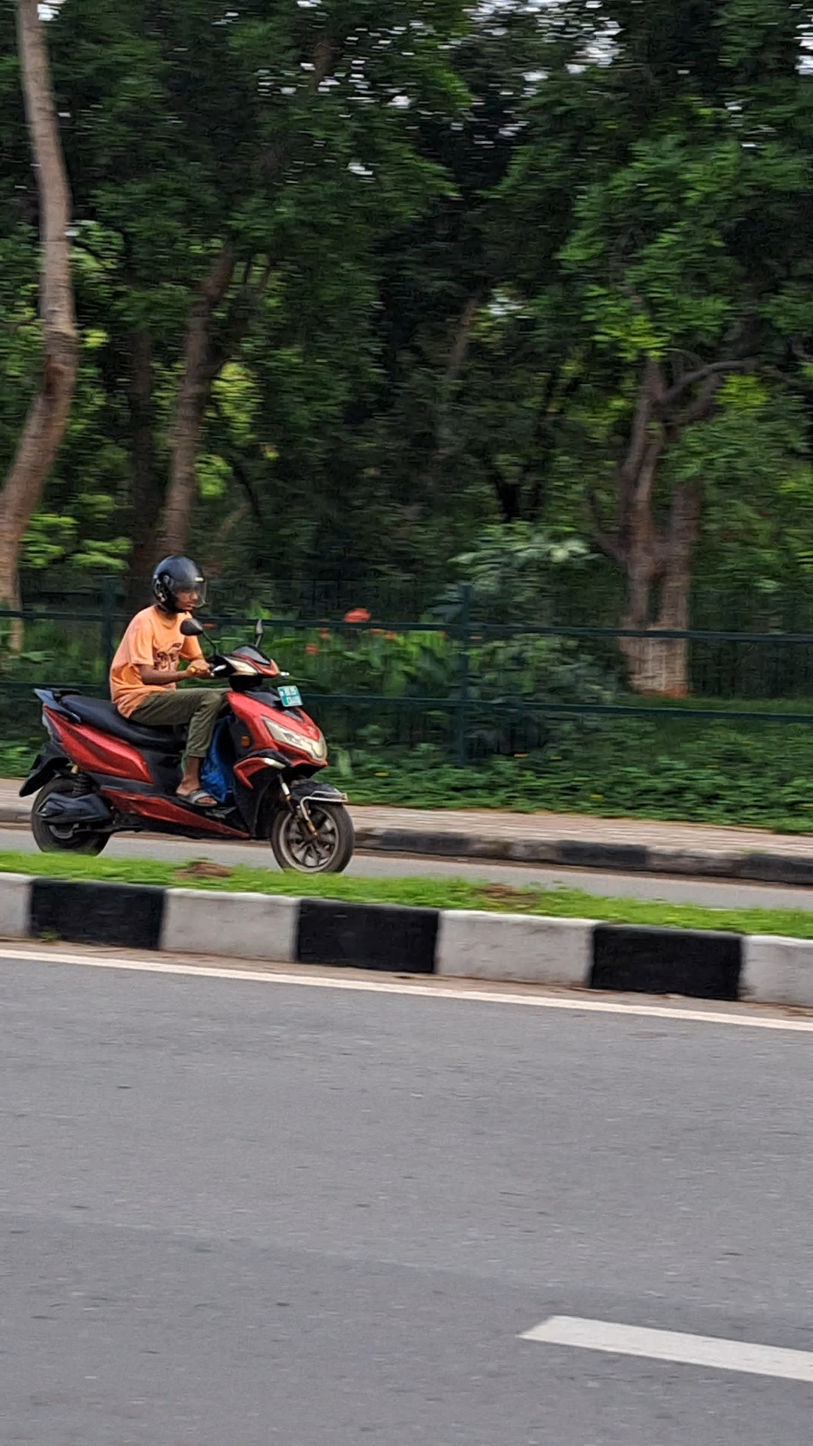BikeWithRider: (7, 540, 373, 890)
Helmet: (141, 548, 216, 621)
